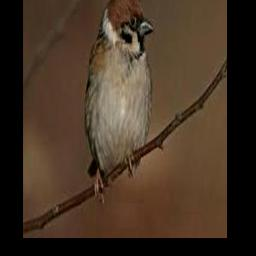Sparrow: (85, 0, 155, 202)
